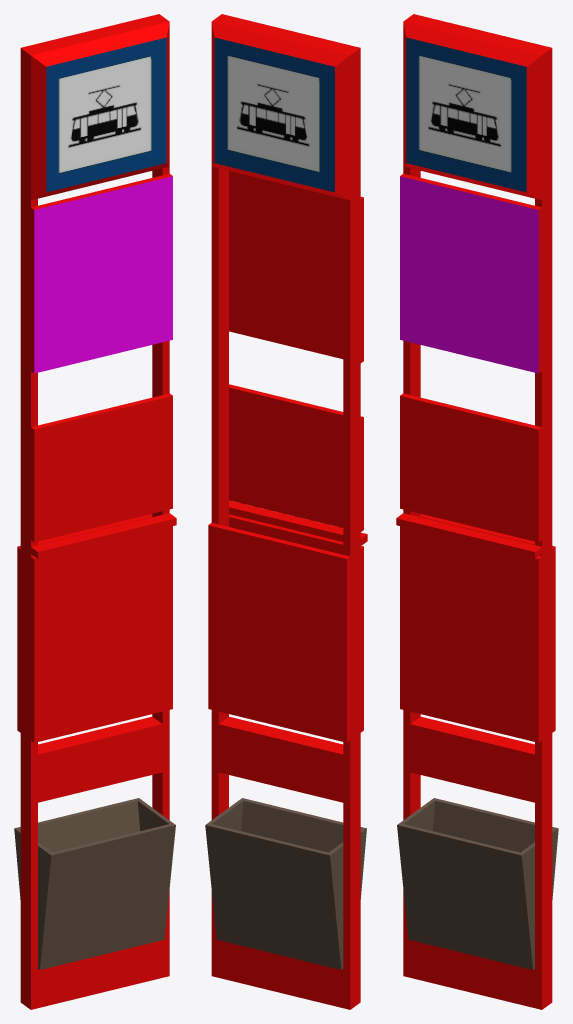
Rendered from Stop.glb.
3 renders of one model, left to right at view 1: azimuth 30°, elevation 25°; view 2: azimuth 150°, elevation 25°; view 3: azimuth 330°, elevation 25°, orthographic.
Visible parts, largest first — view 1: Cube; view 2: Cube; view 3: Cube.
Part boxes in pixels (x1,y1,x2,y2): Cube: [14, 14, 176, 1009]; Cube: [205, 14, 367, 1009]; Cube: [396, 14, 558, 1009].
Size of the model in its own units: 0.5135 by 3.37 by 0.2375.
Materials: 4 (1 with a texture image).
